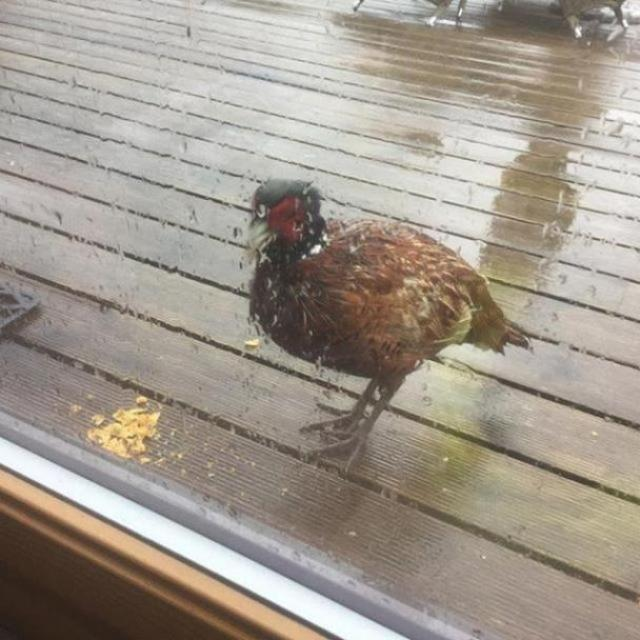Chicken: (239, 183, 533, 455)
